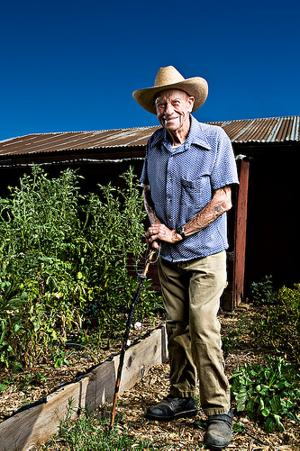person: (132, 63, 240, 450)
